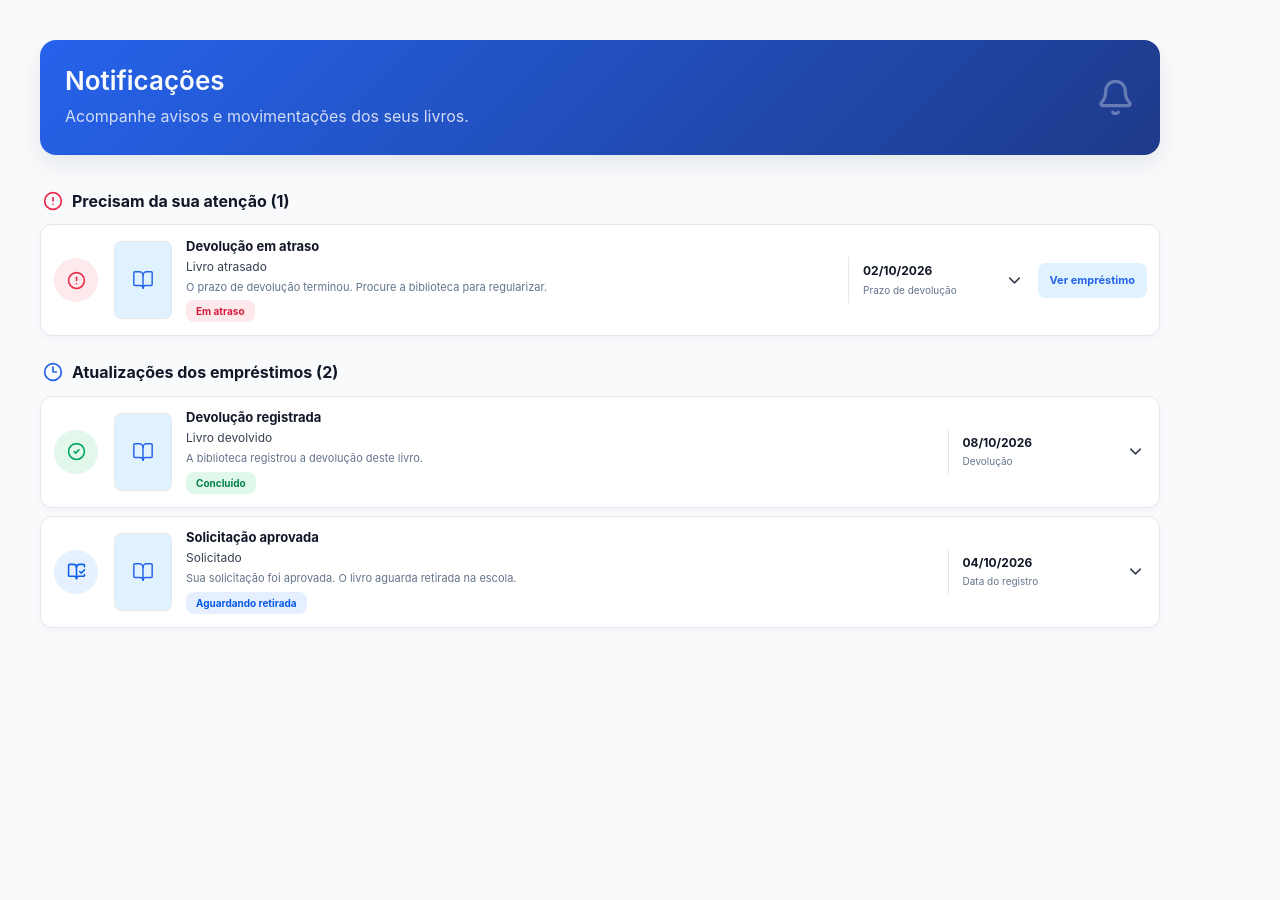
Test case: separa atraso de atualizações e usa a data real da devolução
Expected: the text "Livro devolvido" is shown, [186,430,272,447]
Expected: the heading "Precisam da sua atenção (1)" is shown, [43,191,290,211]
Click the button with aria-label "Expandir notificação: Devolução registrada" at (76, 452), box [41,397,1159,507]
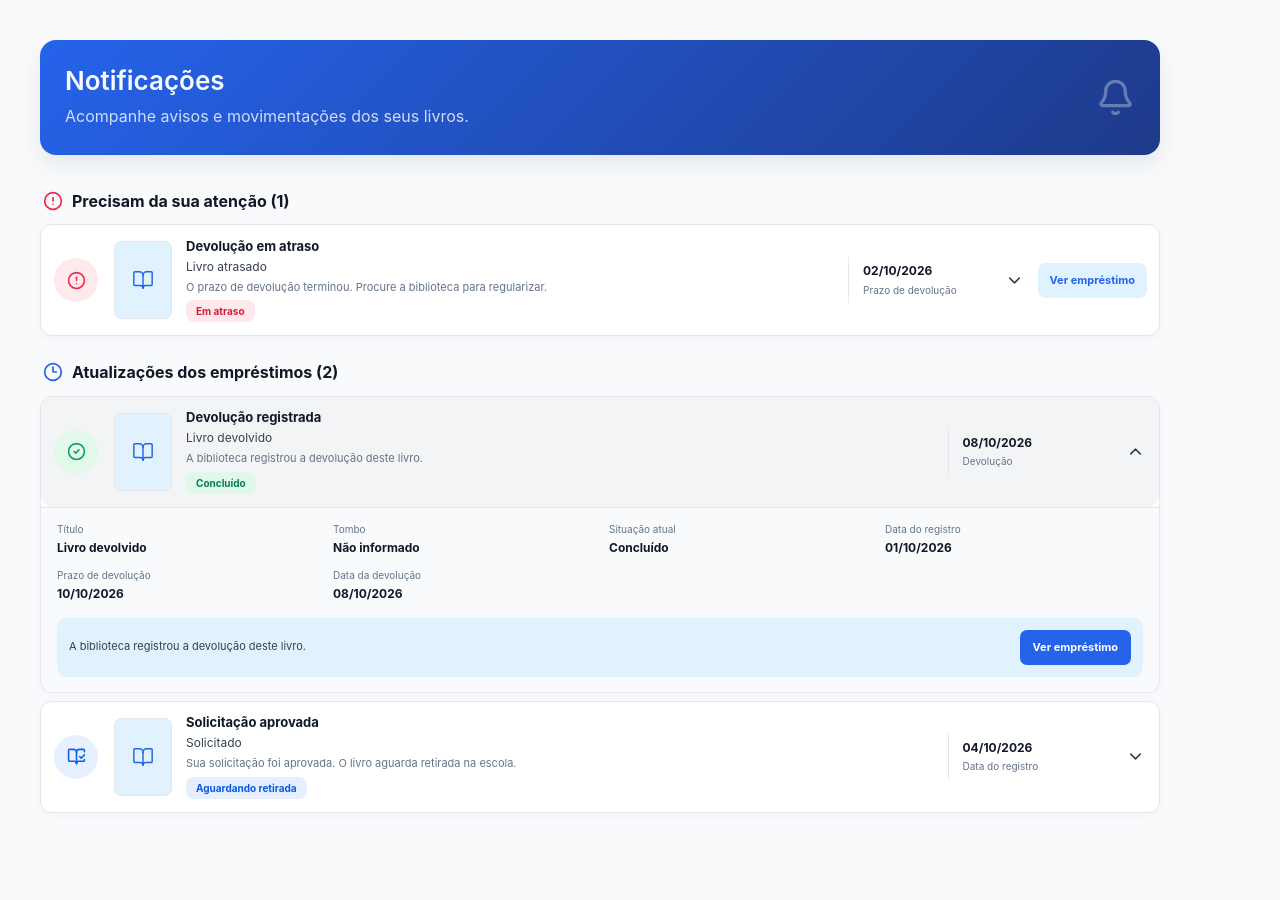
Expected: the 1st text "08/10/2026" is shown, [962,434,1032,450]
Expected: the text "Data da devolução" is shown, [333,569,421,581]
Expected: the text "10/10/2026" is shown, [57,586,124,601]
